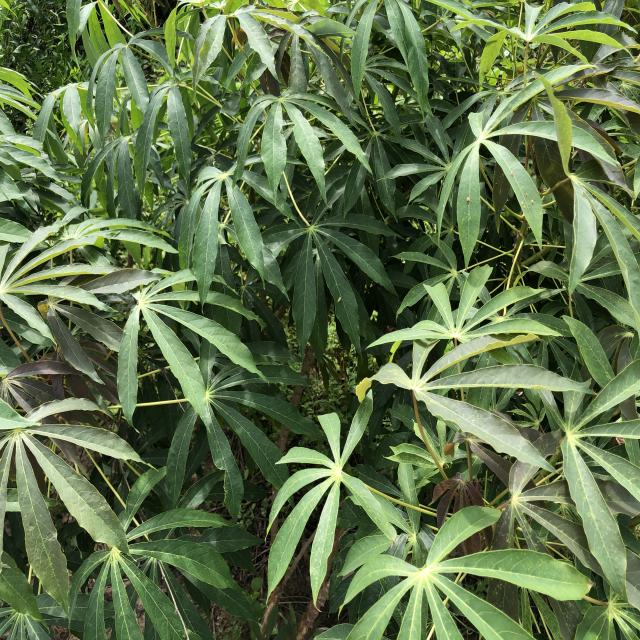Mosca: (523, 188, 538, 210), (462, 186, 475, 202), (334, 289, 344, 303)
